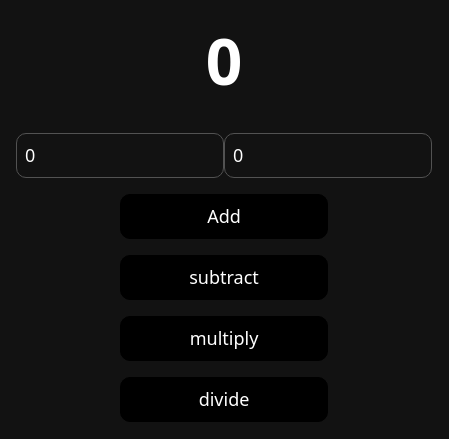
Calculator › adds to number
Replace the text in the number field with test id "num1" with "5" at (120, 155), box [16,132,224,178]
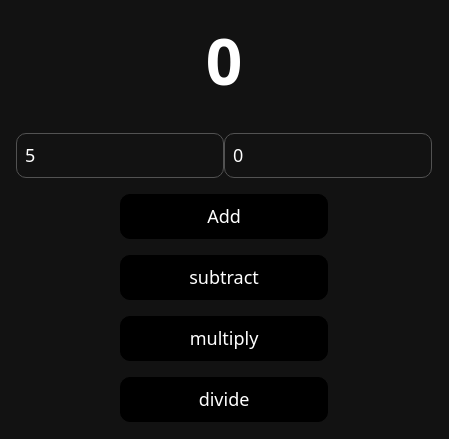
Replace the text in the number field with test id "num2" with "8" at (328, 155), box [224,132,432,178]
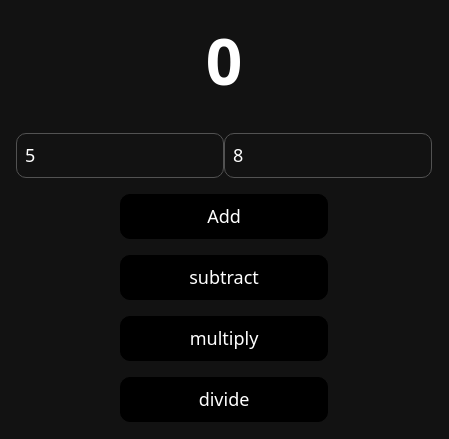
Click the button with test id "add" at (224, 216), box [120,194,328,238]
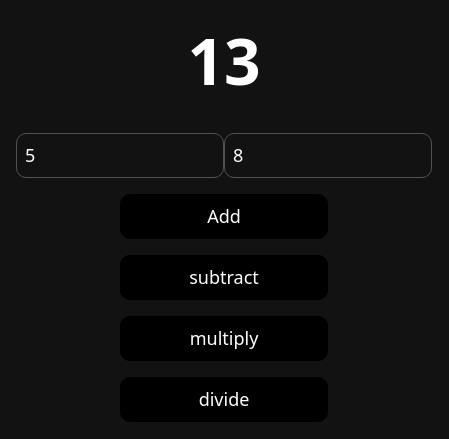
Expected: the text with test id "result" reads "13", [187,16,261,104]
